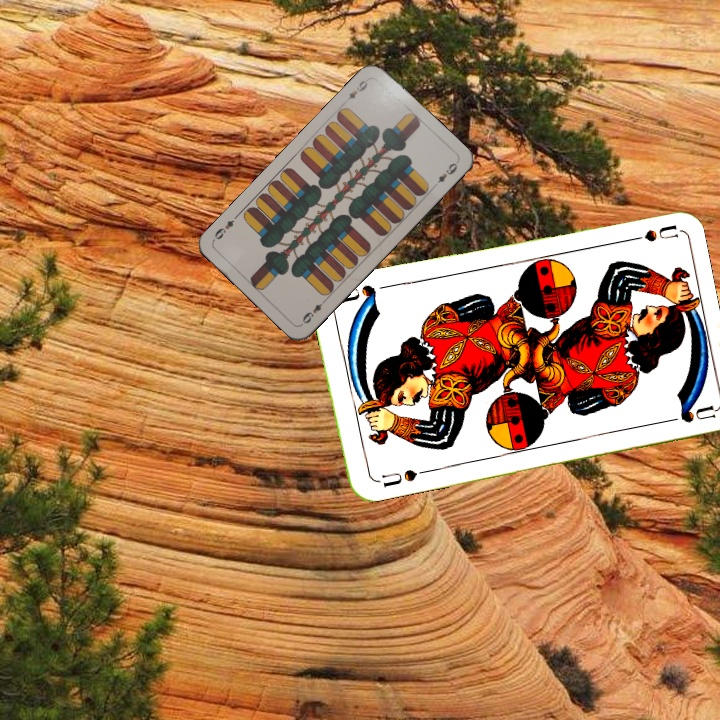E9: (298, 295, 330, 326), (340, 76, 370, 106)
SU: (619, 221, 679, 245), (378, 465, 429, 490)
